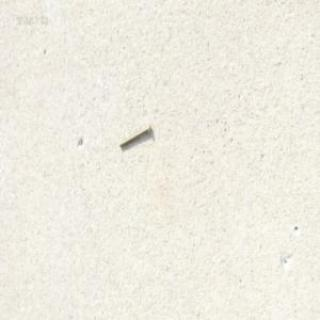Bolttrack_idkeyframe: (117, 121, 150, 148)
